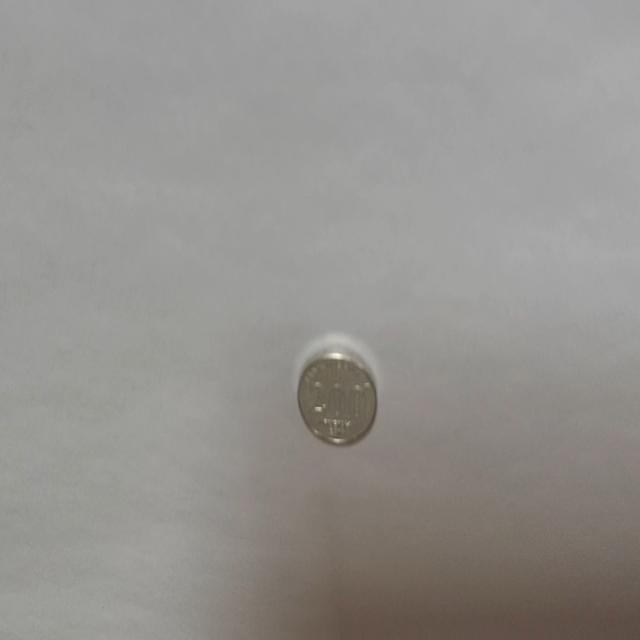dua ratus rupiah: (296, 345, 378, 447)
